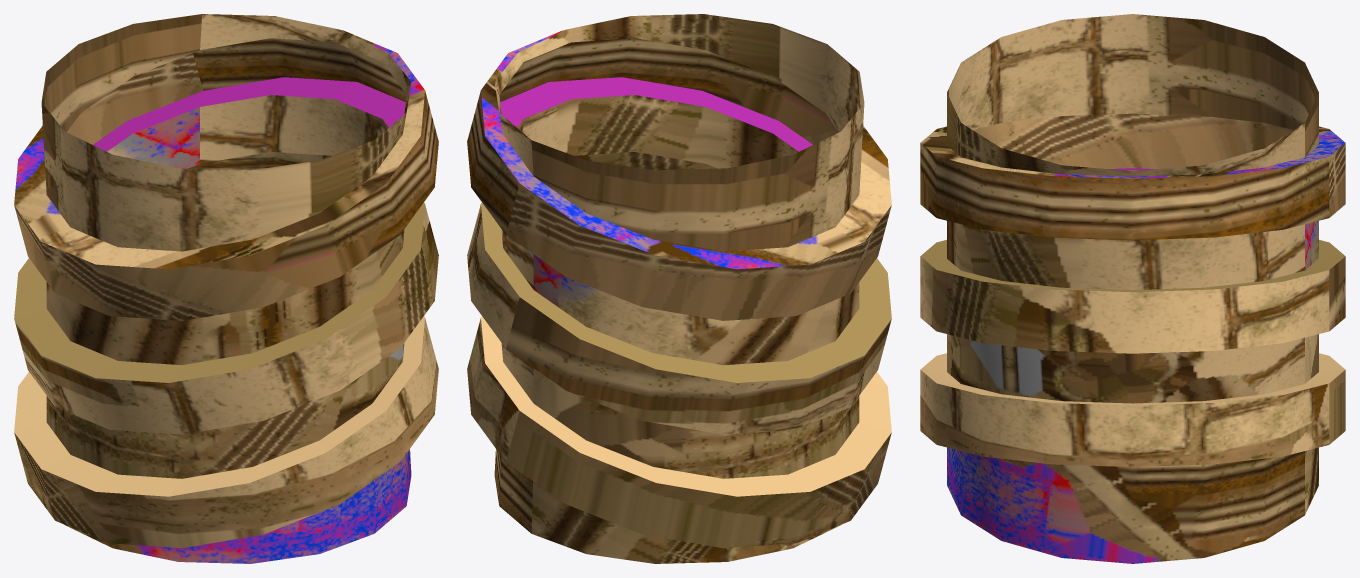
The model's file is SM_Columna2.fbx.
The picture shows the model from 3 angles, left to right: view 1: azimuth 30°, elevation 25°; view 2: azimuth 150°, elevation 25°; view 3: azimuth 270°, elevation 25°; orthographic projection.
Visible parts, largest first — view 1: SM_Columna2; view 2: SM_Columna2; view 3: SM_Columna2.
Boxes of the visible parts, <box> form: SM_Columna2: <box>14,14,438,563</box>; SM_Columna2: <box>467,14,891,563</box>; SM_Columna2: <box>920,14,1345,563</box>.
Bounding box in the file's own units: 98.46 × 100 × 98.13.
